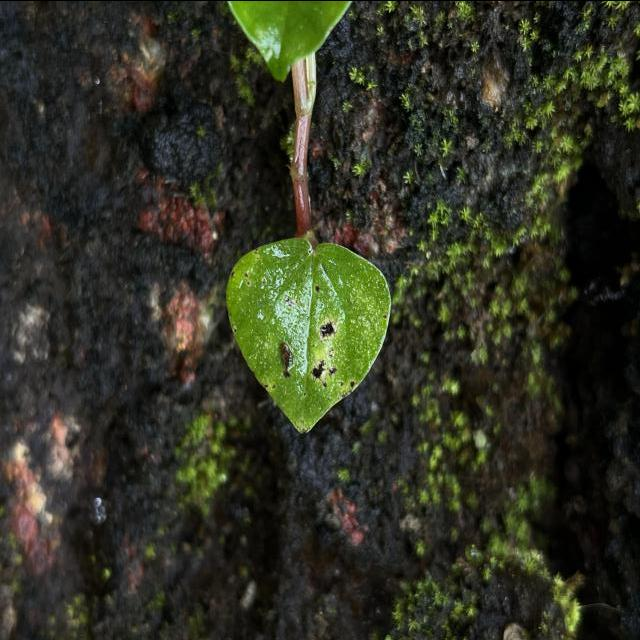Peperomia pellucida: (224, 234, 393, 436)
